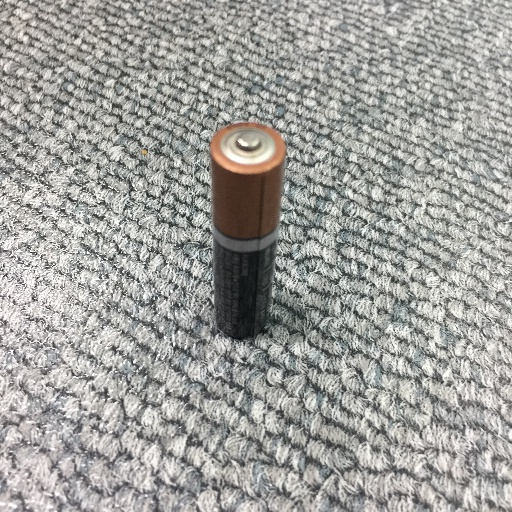Battery_0: (200, 113, 290, 352)
